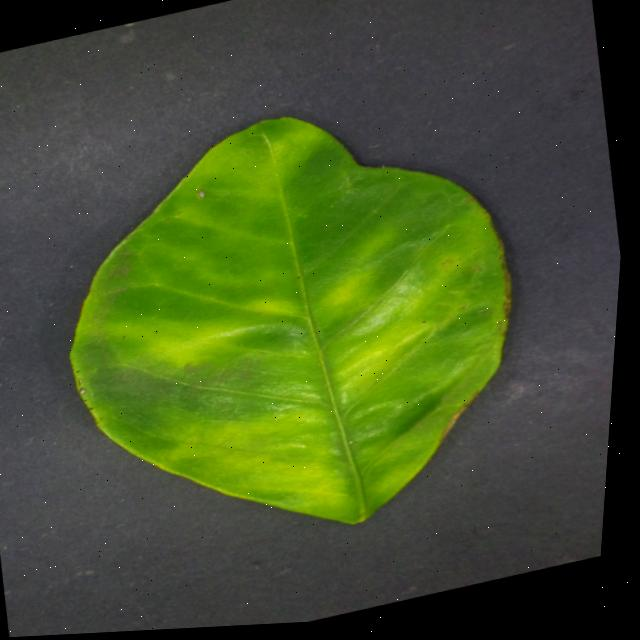greening: (72, 116, 510, 521)
